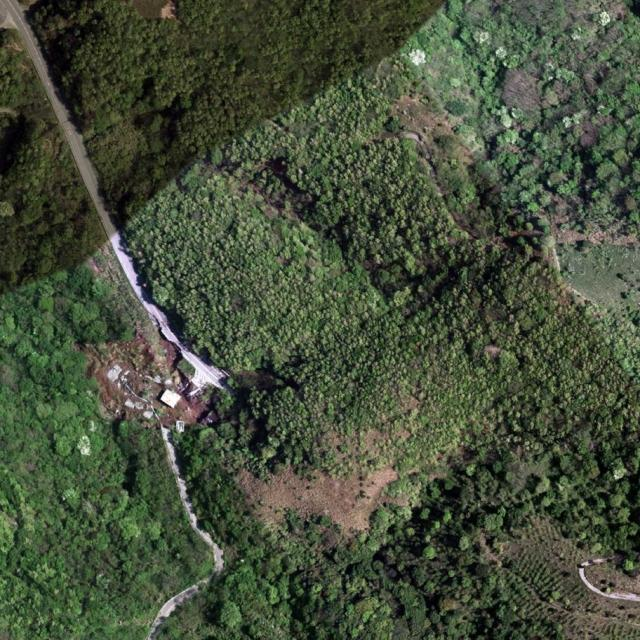landslide: (84, 335, 166, 421)
